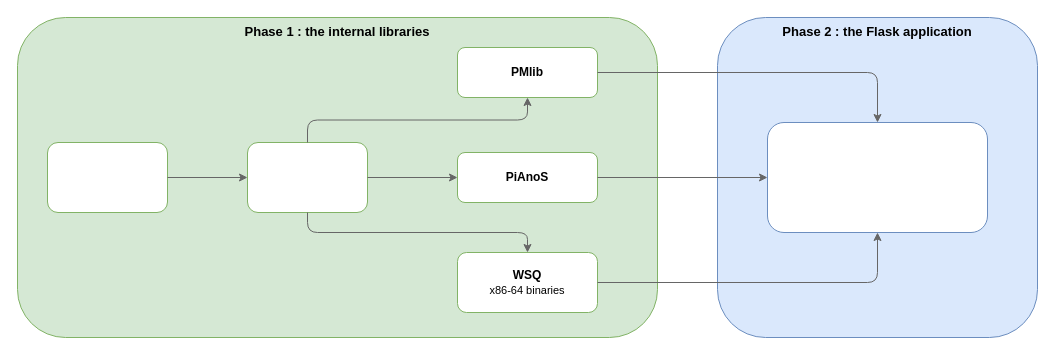
The diagram is 1055 pixels wide and 355 high, and some of its shapes have lost their labels. The shapes that lost their labels are listed below. From the top down, each one's centre as x and y in pixels, then its label:
At point 107,177: "MDmisc utility helpers".
At point 307,177: "NIST AN2 / fingerprint".
At point 877,177: "web/app Flask application (crypto, sessions, WebAuthn, views)".
